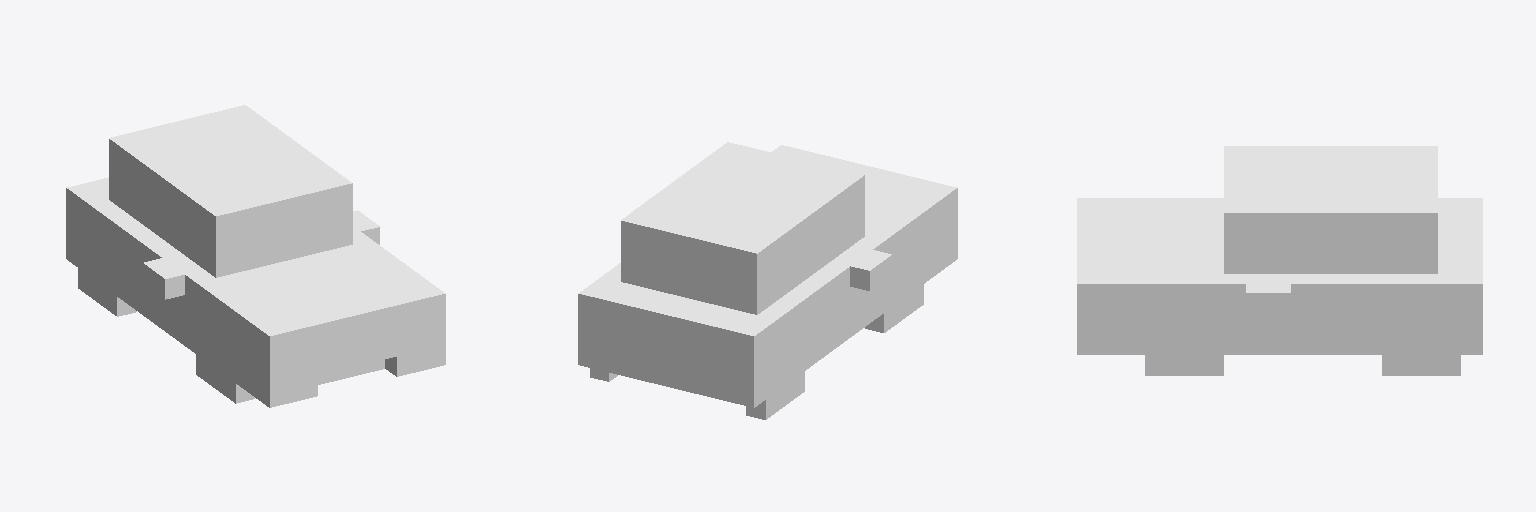
The model's file is Car_Orange.obj.
3 views of the same model, side by side, from view 1: azimuth 30°, elevation 25°; view 2: azimuth 150°, elevation 25°; view 3: azimuth 270°, elevation 25° (orthographic).
Visible parts, largest first — view 1: object 1; view 2: object 1; view 3: object 1.
Part boxes in pixels (bbox=[...]): object 1: bbox=[66, 105, 445, 407]; object 1: bbox=[578, 142, 957, 419]; object 1: bbox=[1077, 146, 1482, 375].
Bounding box in the file's own units: 2.2 × 1.5 × 3.6.